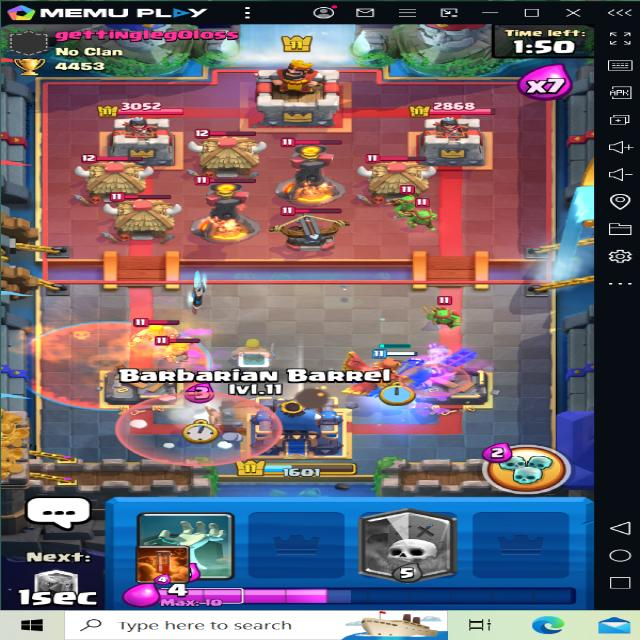barbarian: (135, 318, 186, 347), (155, 334, 199, 366)
goblin-hut: (102, 188, 185, 240), (187, 126, 266, 178), (363, 152, 434, 204), (80, 155, 156, 201)
inferno-tower: (188, 172, 274, 250), (278, 136, 342, 201)
spear-goblin: (423, 296, 459, 330), (396, 188, 422, 215), (410, 203, 439, 226)
x-bow: (269, 200, 348, 251)
